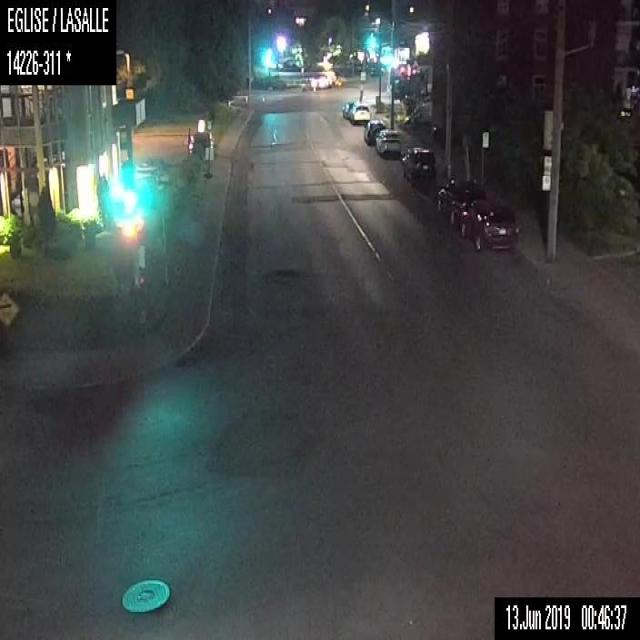vehicle: (459, 201, 516, 251), (437, 178, 484, 226), (400, 144, 436, 186), (374, 128, 402, 156), (188, 132, 213, 156), (363, 119, 385, 145), (350, 102, 370, 122), (311, 72, 330, 88), (342, 101, 356, 118)
